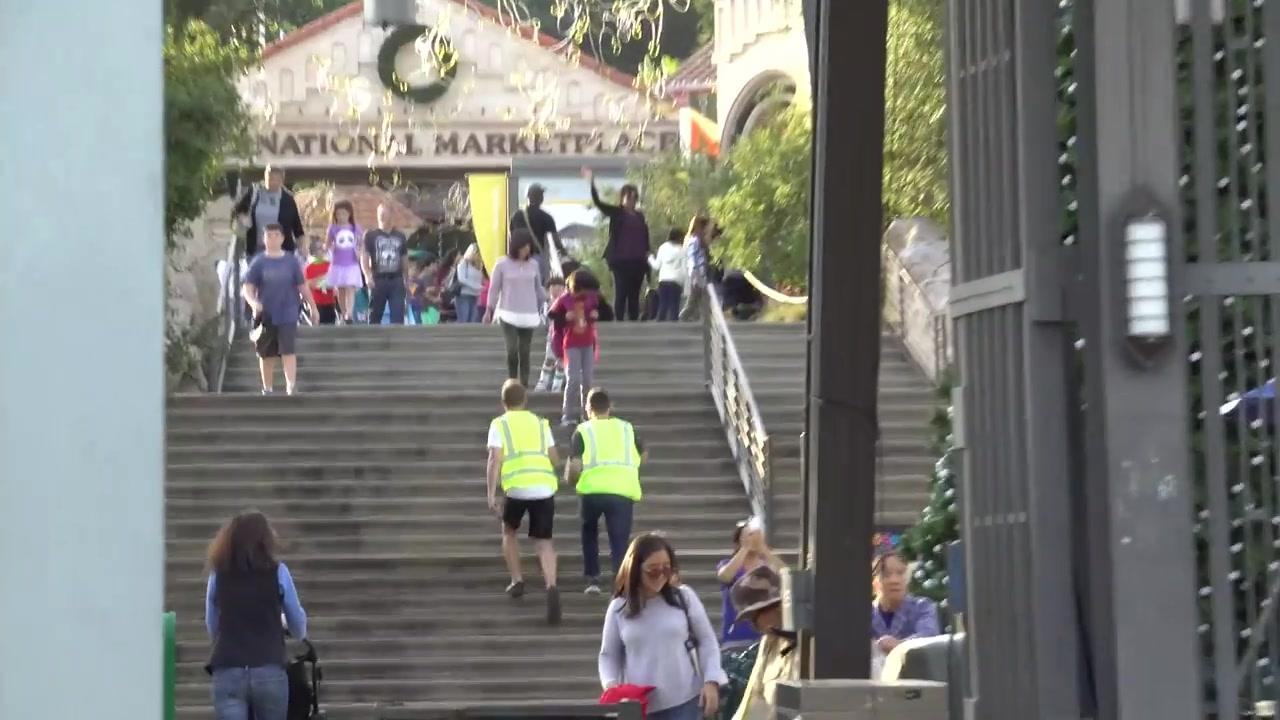vest: (573, 415, 645, 502), (490, 410, 559, 494)
